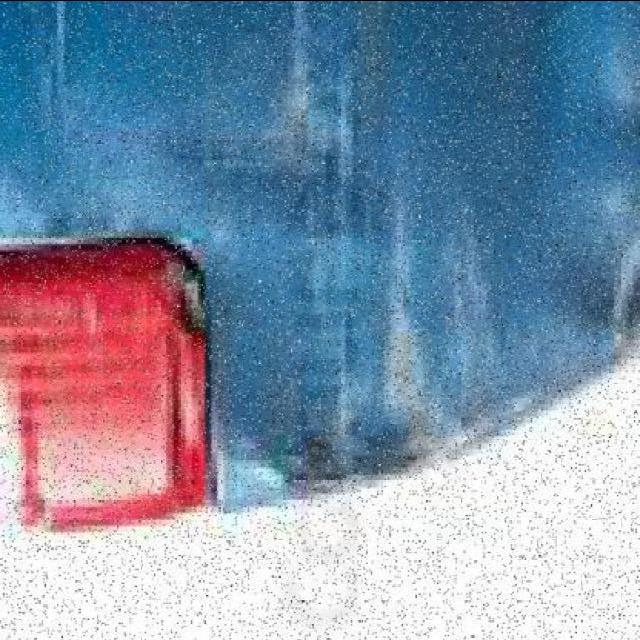rear-bumper-dent: (0, 7, 634, 628)
